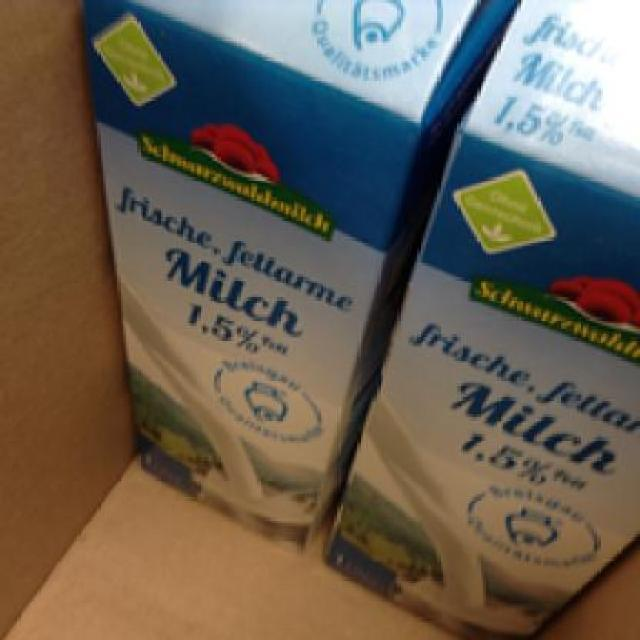Milk: (76, 0, 469, 552), (312, 2, 638, 628)
